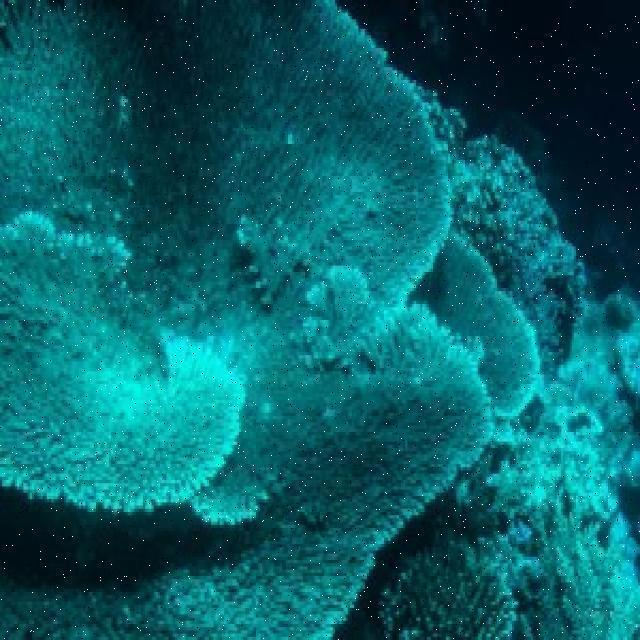Bleached: (1, 1, 498, 640), (1, 206, 255, 539)
